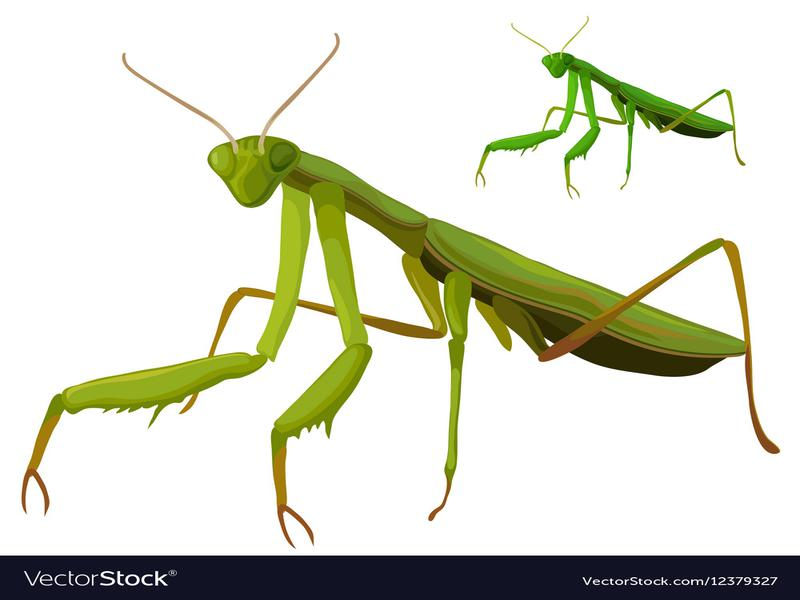Grasshopper: (19, 124, 756, 518), (460, 32, 756, 200)
